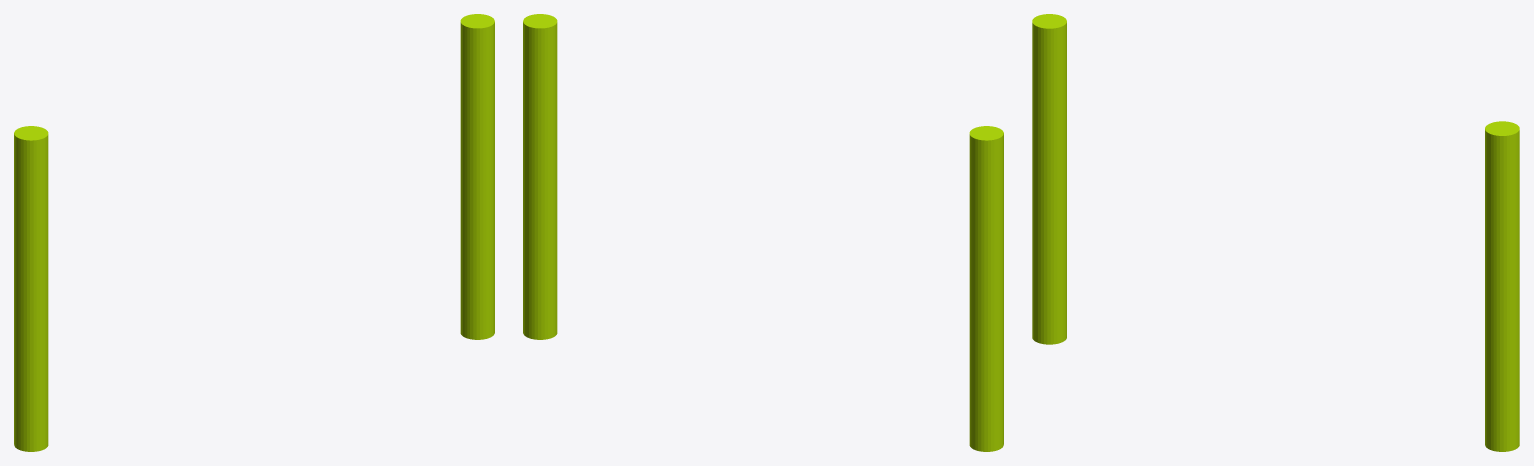
The model's file is castle.glb.
The picture shows the model from 3 angles, left to right: view 1: azimuth 30°, elevation 25°; view 2: azimuth 150°, elevation 25°; view 3: azimuth 330°, elevation 25°; orthographic projection.
Parts seen in each view (by area): view 1: Cylinder, Cylinder.002; view 2: Cylinder, Cylinder.002; view 3: Cylinder, Cylinder.002.
Part boxes in pixels (x1,y1,x2,y2): Cylinder: (14, 126, 48, 451); Cylinder.002: (460, 14, 494, 339); Cylinder: (969, 126, 1003, 451); Cylinder.002: (523, 14, 557, 339); Cylinder: (1032, 14, 1066, 344); Cylinder.002: (1485, 121, 1519, 451).
Size of what is drawn, in the model's own units: 3.2 by 2.02 by 0.2.
